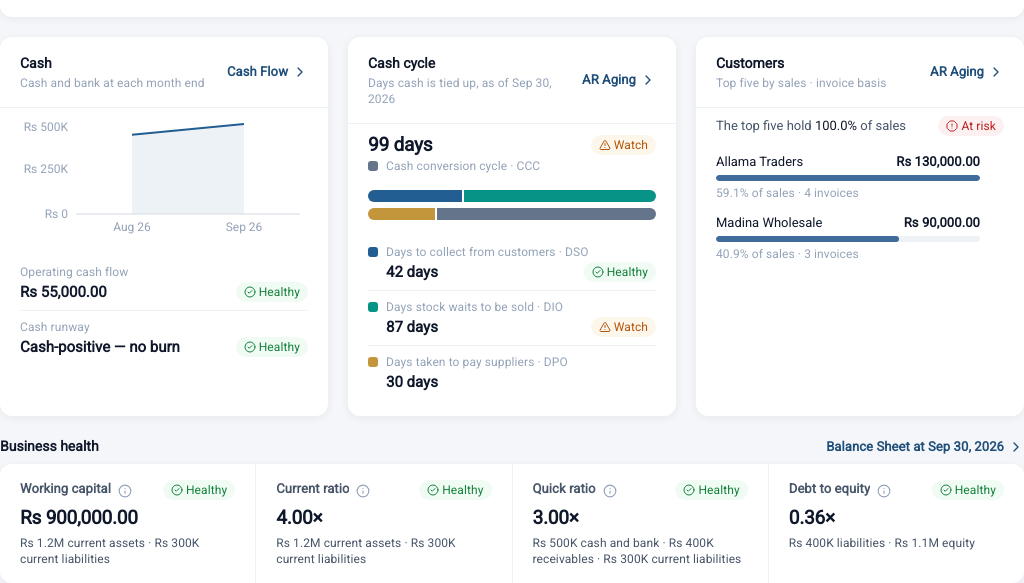
AnalyticsPage — business overview (reports v2) › quotes the rule of thumb, the formula and its inputs in the ⓘ
The image size is (1024, 583).
(page scrolled)
Expected: the heading "Business health" is shown, 0,436 -> 99,456
Click the button named "How current ratio is calculated": (364, 491) 354,481 -> 374,501
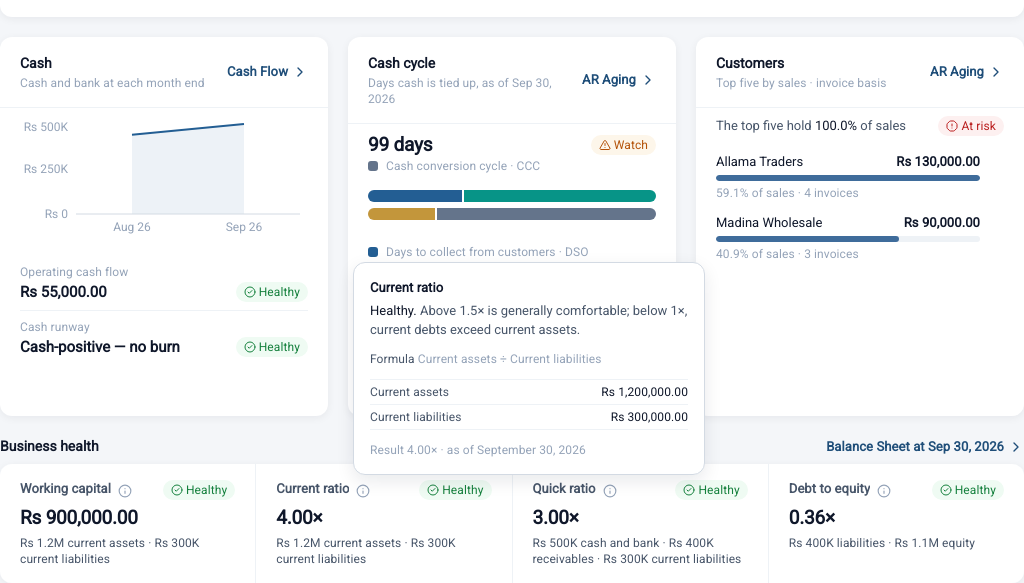
Result: the text "Above 1.5× is generally comfortable" is shown at 370,303 -> 687,337
Result: the text "Current assets ÷ Current liabilities" is shown at 418,352 -> 602,366
